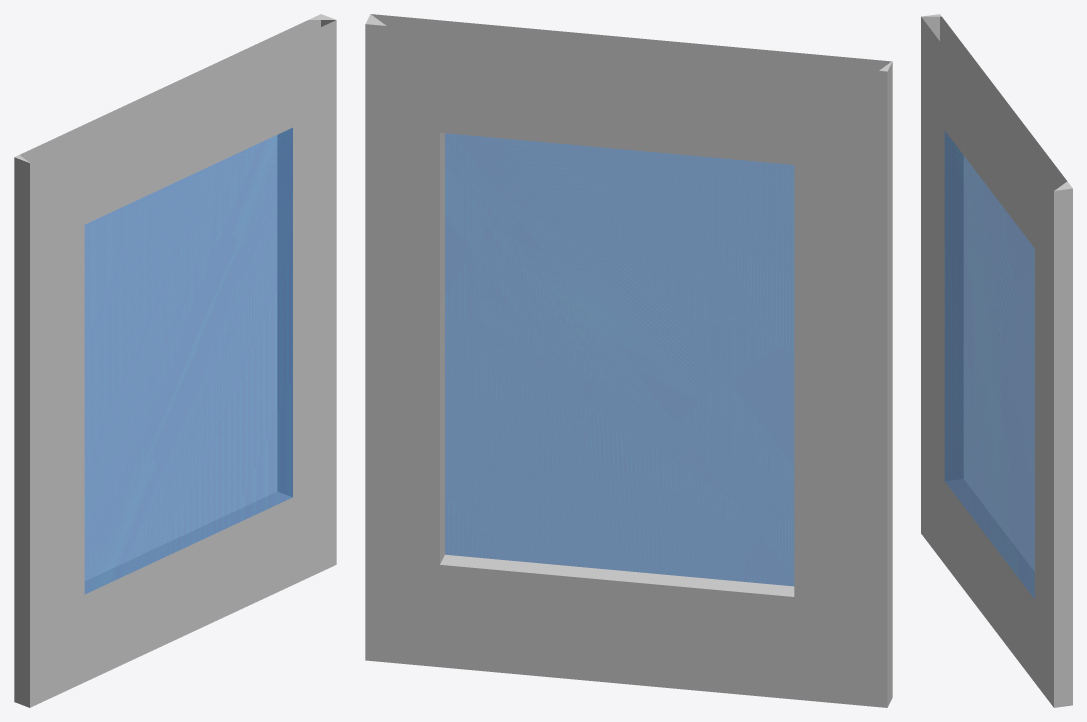
The picture shows the model from 3 angles, left to right: view 1: azimuth 30°, elevation 25°; view 2: azimuth 150°, elevation 25°; view 3: azimuth 270°, elevation 25°; orthographic projection. The views are drawn at different scales.
Bounding box in the file's own units: 0.7018 × 0.9554 × 0.2544.
